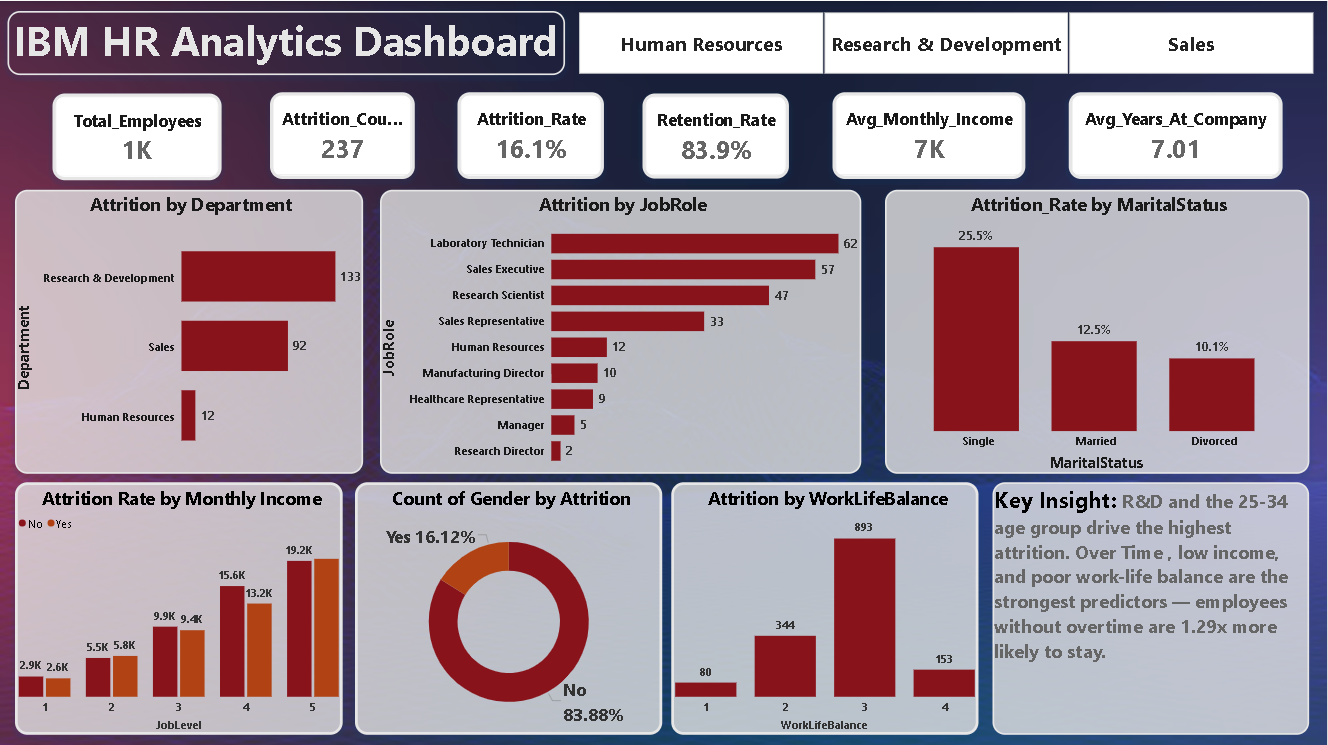

This screenshot's page, from the dashboard's own definition file:
{"tool":"powerbi","page":{"name":"Dashboard","canvas":[1920,1080],"ordinal":0},"visuals":[{"type":"cardVisual","fields":{"Data":["HR-Employee-Attrition.Total_Employees"]},"box":[75.7,134.2,244.5,125.5],"z":0},{"type":"cardVisual","fields":{"Data":["HR-Employee-Attrition.Attrition_Count"]},"box":[391.7,132,209.9,125.5],"z":1000},{"type":"cardVisual","fields":{"Data":["HR-Employee-Attrition.Attrition_Rate"]},"box":[662.2,132,212.1,125.5],"z":2000},{"type":"cardVisual","fields":{"Data":["HR-Employee-Attrition.Avg_Monthly_Income"]},"box":[1205.4,132,279.2,125.5],"z":3000},{"type":"cardVisual","fields":{"Data":["HR-Employee-Attrition.Retention_Rate"]},"box":[930.6,134.2,212.1,123.4],"z":4000},{"type":"clusteredBarChart","title":"Attrition by Department","fields":{"Category":["HR-Employee-Attrition.Department"],"Y":["HR-Employee-Attrition.Attrition_Count"]},"box":[21.6,272.7,504.2,411.2],"z":5000},{"type":"textbox","box":[10.8,15.1,807.2,93.1],"z":6000},{"type":"clusteredBarChart","title":"Attrition by JobRole","fields":{"Category":["HR-Employee-Attrition.JobRole"],"Y":["HR-Employee-Attrition.Attrition_Count"]},"box":[549.7,272.7,696.9,411.2],"z":7000},{"type":"clusteredColumnChart","title":"Attrition Rate by Monthly Income","fields":{"Category":["HR-Employee-Attrition.JobLevel"],"Series":["HR-Employee-Attrition.Attrition"],"Y":["HR-Employee-Attrition.Avg_Monthly_Income"]},"box":[21.7,696.7,474.1,365.6],"z":9000},{"type":"slicer","fields":{"Values":["HR-Employee-Attrition.Department"]},"box":[818,14.5,1102.1,92.3],"z":10000},{"type":"donutChart","fields":{"Category":["HR-Employee-Attrition.Attrition"],"Y":["CountNonNull(HR-Employee-Attrition.Gender)"]},"box":[513.9,696.7,445.2,365.6],"z":15002},{"type":"columnChart","fields":{"Category":["HR-Employee-Attrition.MaritalStatus"],"Y":["HR-Employee-Attrition.Attrition_Rate"]},"box":[1281.2,272.7,614.6,411.2],"z":15003},{"type":"cardVisual","fields":{"Data":["HR-Employee-Attrition.Avg_Years_At_Company"]},"box":[1547.4,132,309.5,125.5],"z":15004},{"type":"columnChart","fields":{"Category":["HR-Employee-Attrition.WorkLifeBalance"],"Y":["CountNonNull(HR-Employee-Attrition.Attrition)"]},"box":[971.8,696.7,445.2,365.6],"z":15005},{"type":"textbox","box":[1437,696.9,458.8,365.7],"z":15006}]}

Visuals, with their boxes in screenshot pixels (x1, y1, x2, y2), scaled from the page's 1920x1080 canvas onto the 1328x745 screenshot:
cardVisual - HR-Employee-Attrition.Total_Employees: locate(52, 93, 221, 179)
cardVisual - HR-Employee-Attrition.Attrition_Count: locate(271, 91, 416, 178)
cardVisual - HR-Employee-Attrition.Attrition_Rate: locate(458, 91, 605, 178)
cardVisual - HR-Employee-Attrition.Avg_Monthly_Income: locate(834, 91, 1027, 178)
cardVisual - HR-Employee-Attrition.Retention_Rate: locate(644, 93, 790, 178)
"Attrition by Department" clusteredBarChart: locate(15, 188, 364, 472)
textbox: locate(7, 10, 566, 75)
"Attrition by JobRole" clusteredBarChart: locate(380, 188, 862, 472)
"Attrition Rate by Monthly Income" clusteredColumnChart: locate(15, 481, 343, 733)
slicer - HR-Employee-Attrition.Department: locate(566, 10, 1327, 74)
donutChart - HR-Employee-Attrition.Attrition x CountNonNull(HR-Employee-Attrition.Gender): locate(355, 481, 663, 733)
columnChart - HR-Employee-Attrition.MaritalStatus x HR-Employee-Attrition.Attrition_Rate: locate(886, 188, 1311, 472)
cardVisual - HR-Employee-Attrition.Avg_Years_At_Company: locate(1070, 91, 1284, 178)
columnChart - HR-Employee-Attrition.WorkLifeBalance x CountNonNull(HR-Employee-Attrition.Attrition): locate(672, 481, 980, 733)
textbox: locate(994, 481, 1311, 733)
